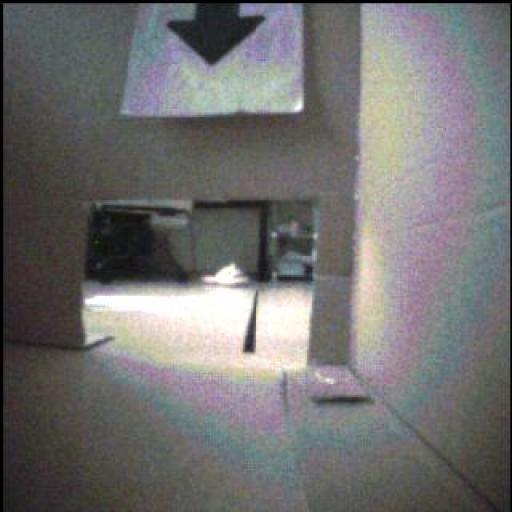arrow: (169, 4, 265, 67)
